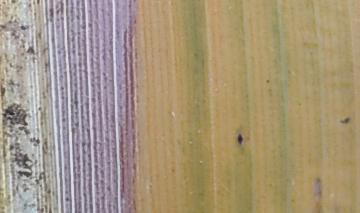tarspot: (337, 115, 352, 125), (236, 131, 244, 146)
